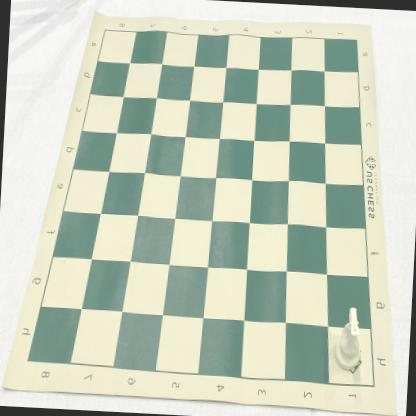white-knight: (332, 306, 362, 372)
